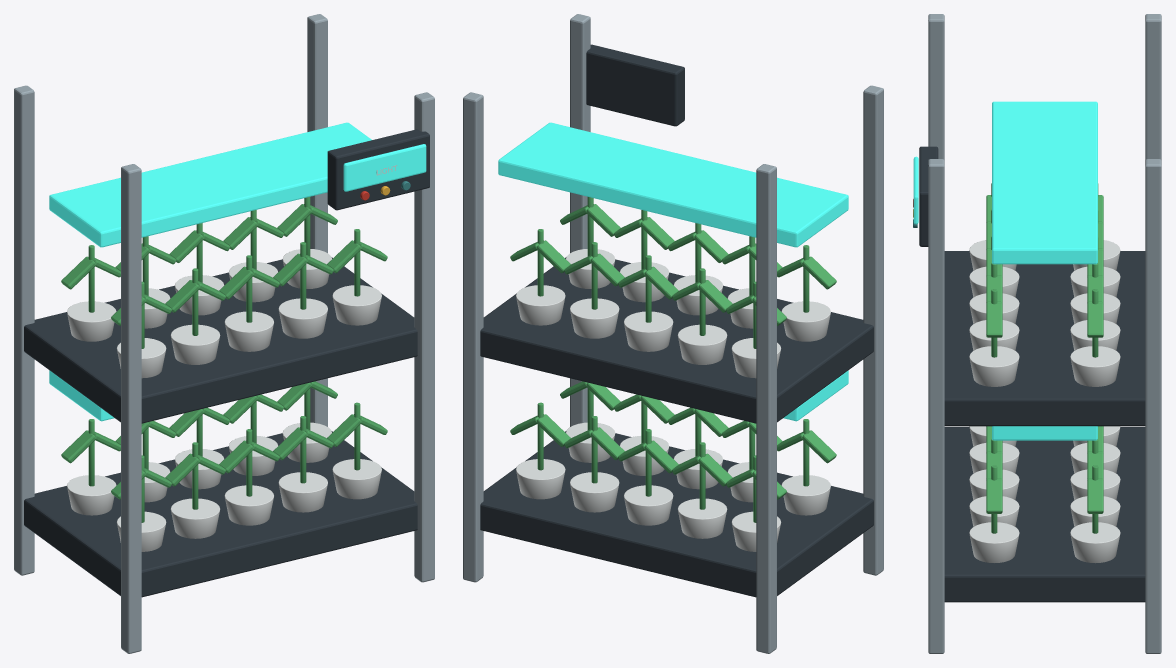
File: grow-rack.glb
3 renders of one model, left to right at view 1: azimuth 30°, elevation 25°; view 2: azimuth 150°, elevation 25°; view 3: azimuth 270°, elevation 25°, orthographic.
Parts seen in each view (by area): view 1: Grow tray, Grow tray.001, Grow light.001, Upright, Upright.001, Upright.002, Upright.003, Control bezel, Screen, Pot.014, Pot.006, Pot.016 (+18 smaller); view 2: Grow tray, Grow tray.001, Grow light.001, Upright.001, Upright.003, Upright, Control bezel, Upright.002, Pot.015, Pot.007, Pot.017, Pot.019 (+17 smaller); view 3: Grow tray.001, Grow tray, Grow light.001, Upright.002, Upright.003, Upright.001, Upright, Pot.018, Pot.019, Pot.008, Pot.009, Grow light (+25 smaller).
Part boxes in pixels (<box>): Grow tray: <box>24,431,417,597</box>; Grow tray.001: <box>24,257,417,423</box>; Grow light.001: <box>49,122,371,247</box>; Upright: <box>121,164,141,653</box>; Upright.001: <box>14,85,34,575</box>; Upright.002: <box>414,92,434,582</box>; Upright.003: <box>307,14,327,426</box>; Control bezel: <box>327,129,429,210</box>; Screen: <box>343,144,426,191</box>; Pot.014: <box>224,311,273,351</box>; Pot.006: <box>278,472,327,512</box>; Pot.016: <box>278,298,327,338</box>; Grow tray: <box>480,431,873,597</box>; Grow tray.001: <box>480,257,873,423</box>; Grow light.001: <box>498,122,848,247</box>; Upright.001: <box>756,164,776,653</box>; Upright.003: <box>463,92,483,582</box>; Upright: <box>863,85,883,575</box>; Control bezel: <box>586,44,684,126</box>; Upright.002: <box>570,14,590,426</box>; Pot.015: <box>624,311,673,351</box>; Pot.007: <box>570,472,619,512</box>; Pot.017: <box>570,298,619,338</box>; Pot.019: <box>516,285,565,325</box>; Grow tray.001: <box>944,251,1145,426</box>; Grow tray: <box>944,427,1145,602</box>; Grow light.001: <box>992,101,1097,264</box>; Upright.002: <box>928,159,944,653</box>; Upright.003: <box>1145,159,1161,653</box>; Upright.001: <box>1145,14,1161,160</box>; Upright: <box>928,14,944,160</box>; Pot.018: <box>969,346,1019,386</box>; Pot.019: <box>1070,346,1120,386</box>; Pot.008: <box>969,522,1019,562</box>; Pot.009: <box>1070,522,1120,563</box>; Grow light: <box>992,426,1097,440</box>.
Bounding box in the file's own units: 1.43 × 2.14 × 0.9878.
